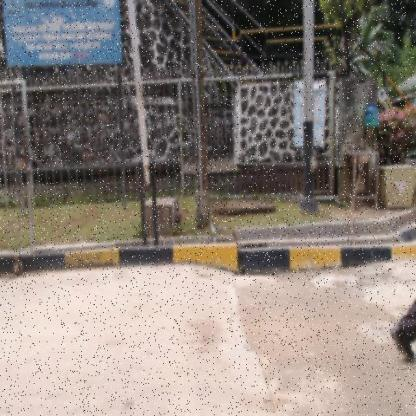boots: (388, 321, 416, 365)
